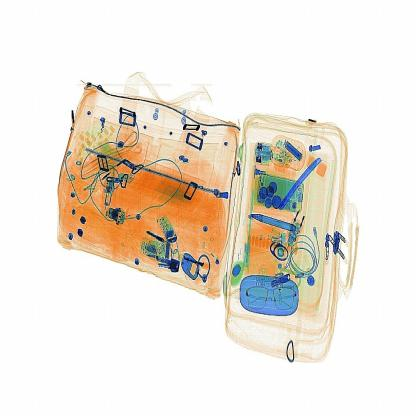pliers: (278, 153, 326, 215)
